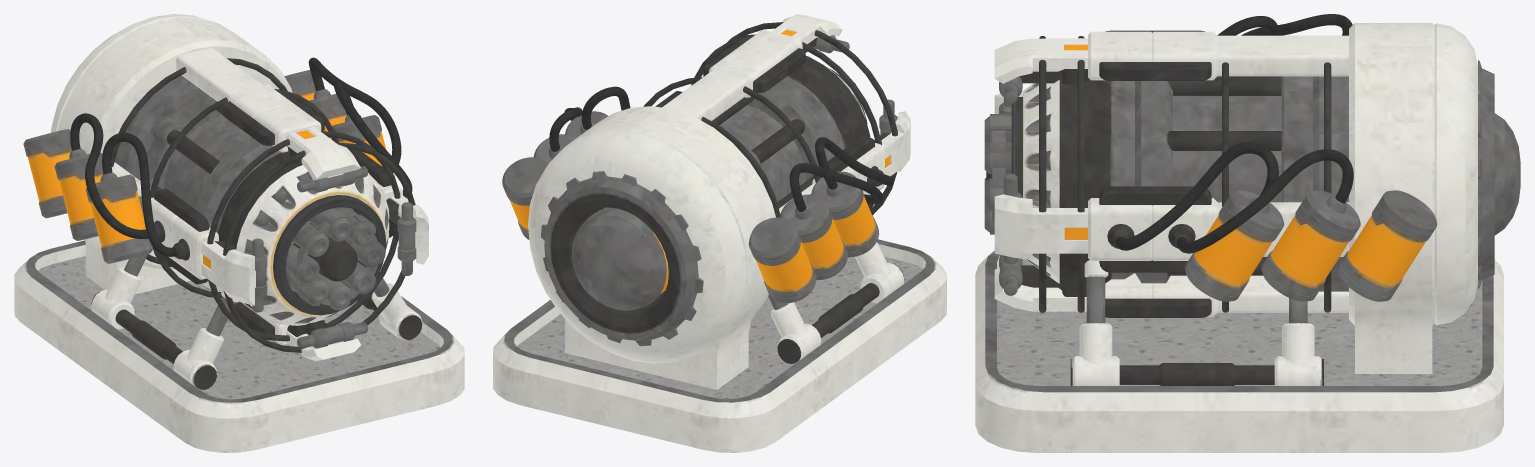
Rendered from powergen.glb.
3 views of the same model, side by side, from view 1: azimuth 30°, elevation 25°; view 2: azimuth 150°, elevation 25°; view 3: azimuth 270°, elevation 25° (orthographic). The views are drawn at different scales.
Visible parts, largest first — view 1: body, fuel_6, fuel_4, fuel_5, fuel_1, fuel_2, fuel_3; view 2: body, fuel_4, fuel_5, fuel_6, fuel_3; view 3: body, fuel_3, fuel_2, fuel_1.
Part boxes in pixels (x1,y1,x2,y2): body: (14, 14, 464, 452); fuel_6: (85, 174, 152, 263); fuel_4: (23, 129, 71, 218); fuel_5: (54, 152, 103, 240); fuel_1: (332, 115, 385, 166); fuel_2: (305, 94, 346, 139); fuel_3: (284, 70, 315, 100); body: (493, 14, 946, 452); fuel_4: (748, 217, 816, 302); fuel_5: (780, 194, 847, 279); fuel_6: (811, 171, 879, 257); fuel_3: (502, 157, 548, 239); body: (975, 14, 1520, 452); fuel_3: (1338, 190, 1437, 301); fuel_2: (1261, 190, 1360, 301); fuel_1: (1184, 190, 1284, 301).
Size of the model in its own units: 0.8552 by 0.7319 by 1.08.
Materials: 1 (1 with a texture image).
